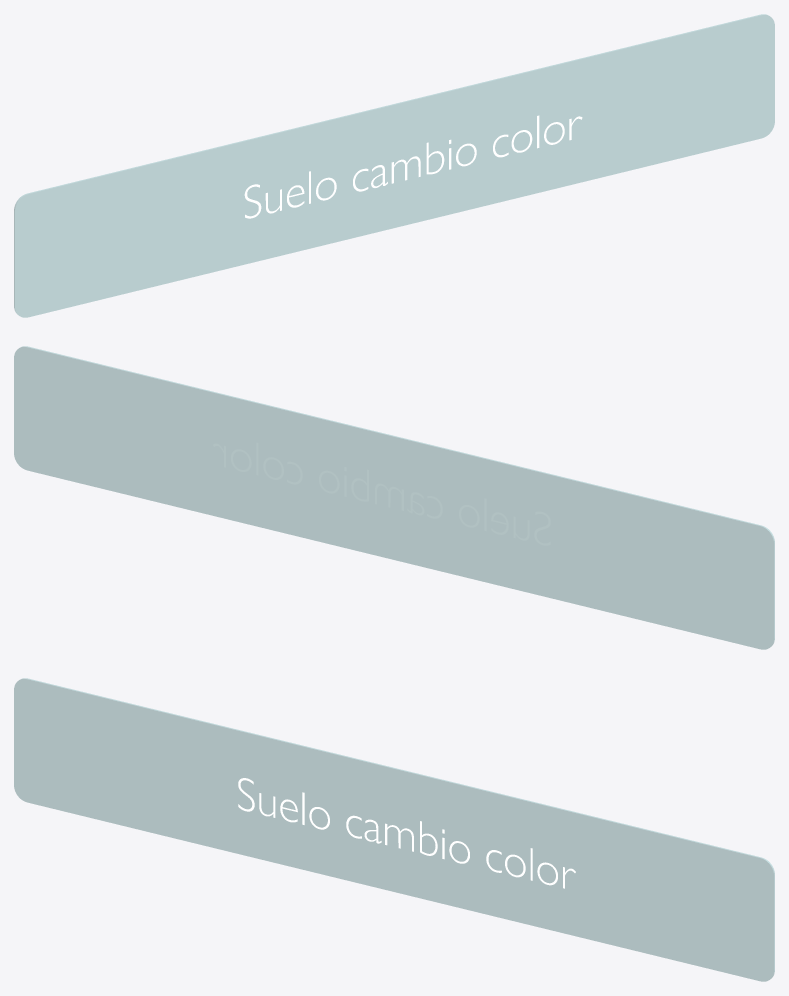
Rendered from Panel_boton_escena_05.glb.
3 views of the same model, one above another, from view 1: azimuth 30°, elevation 25°; view 2: azimuth 150°, elevation 25°; view 3: azimuth 330°, elevation 25° (orthographic).
Parts seen in each view (by area): view 1: panel_boton_escena_05; view 2: panel_boton_escena_05; view 3: panel_boton_escena_05.
Boxes of the visible parts, x1,y1,x2,y2 form: panel_boton_escena_05: (14,14,774,317); panel_boton_escena_05: (14,346,774,649); panel_boton_escena_05: (14,678,774,981).
Size of the model in its own units: 1.24 by 0.1916 by 0.0107.
